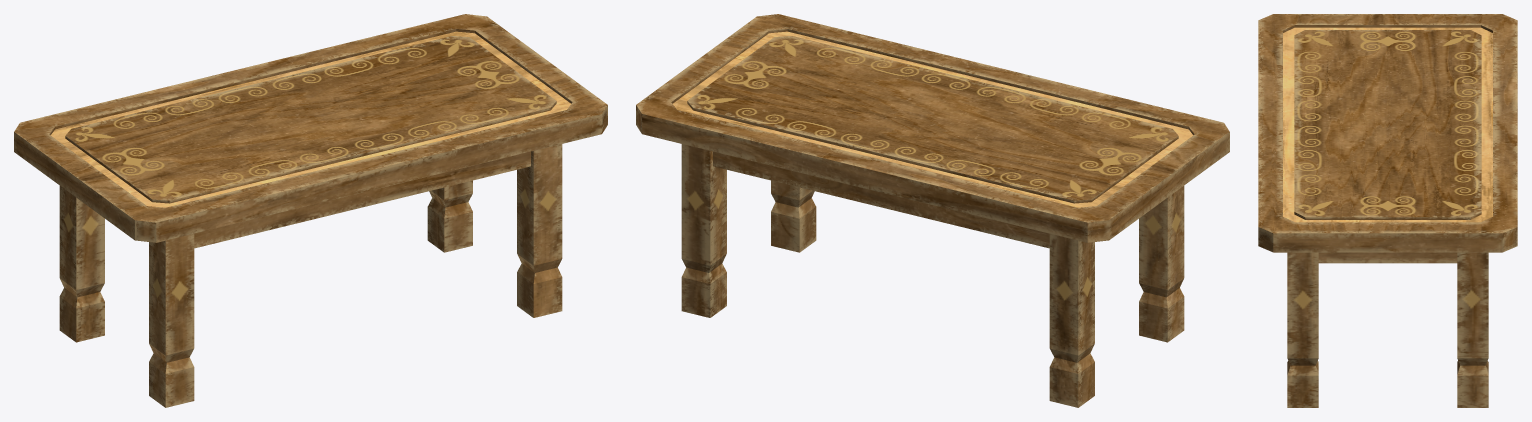
The model's file is table.glb.
3 views of the same model, side by side, from view 1: azimuth 30°, elevation 25°; view 2: azimuth 150°, elevation 25°; view 3: azimuth 270°, elevation 25° (orthographic). The views are drawn at different scales.
Visible parts, largest first — view 1: table; view 2: table; view 3: table.
Boxes of the visible parts, x1,y1,x2,y2 form: table: [14, 14, 607, 407]; table: [636, 14, 1229, 407]; table: [1258, 14, 1517, 407].
Size of the model in its own units: 1.82 by 0.7425 by 0.9075.
1 material, 1 textured.
